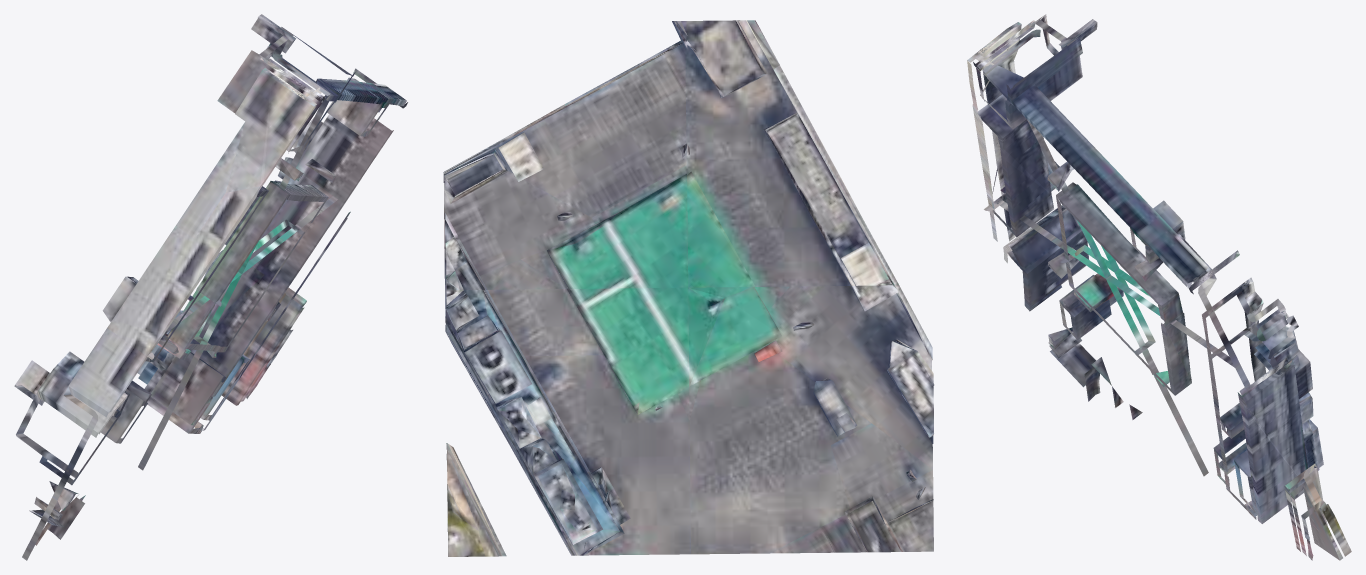
The picture shows the model from 3 angles, left to right: view 1: azimuth 30°, elevation 25°; view 2: azimuth 150°, elevation 25°; view 3: azimuth 270°, elevation 25°; orthographic projection.
Size of the model in its own units: 73.43 by 76.31 by 53.9.
Materials: 2 (2 with a texture image).
